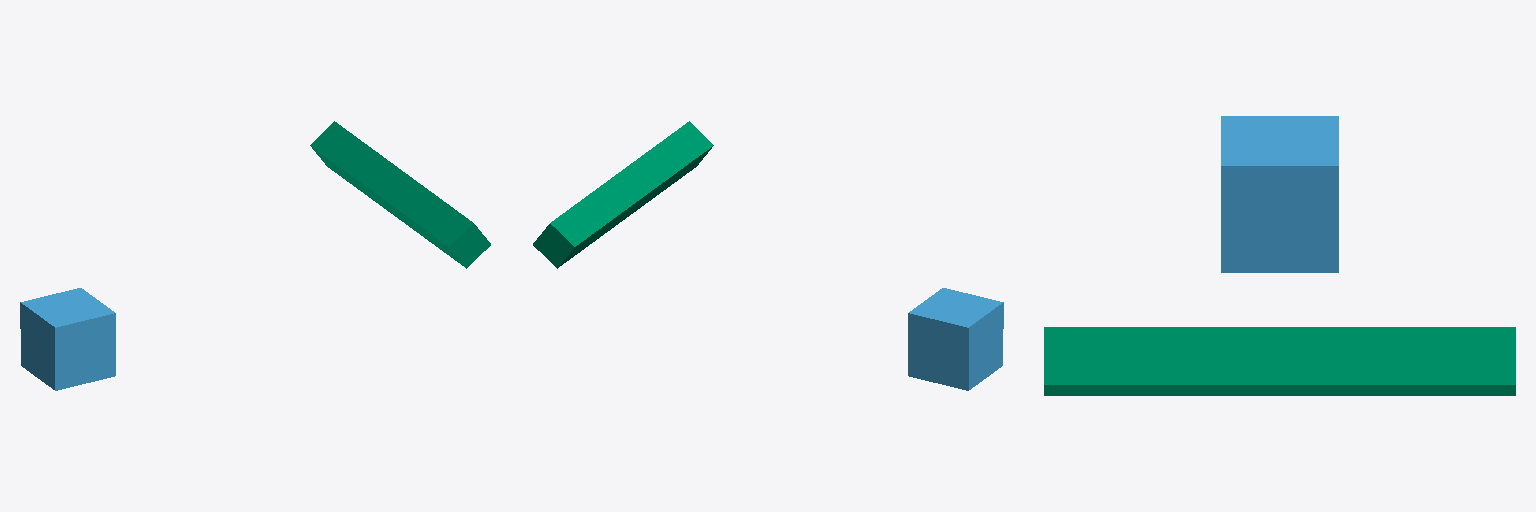
robot.urdf — iris:
<?xml version="1.0" encoding="utf-8"?>
<!-- =================================================================================== -->
<!-- |    This document was autogenerated by xacro from iris_base.xacro                | -->
<!-- |    EDITING THIS FILE BY HAND IS NOT RECOMMENDED                                 | -->
<!-- =================================================================================== -->
<robot name="iris">
  <!---->
  <link name="base_link">
    <inertial>
      <mass value="1.5"/>
      <!-- [kg] -->
      <origin xyz="0 0 0"/>
      <inertia ixx="0.029125" ixy="0.0" ixz="0.0" iyy="0.029125" iyz="0.0" izz="0.055225"/>
    </inertial>
    <visual>
      <origin rpy="0 0 0" xyz="0 0 0"/>
      <geometry>
        <mesh filename="package://leonardo_world/iris_urdf/iris.dae" scale="1 1 1"/>
        <!-- <box size="${body_width} ${body_width} ${body_height}"/> -->
        <!-- [m] [m] [m] -->
      </geometry>
    </visual>
    <collision>
      <origin rpy="0 0 0" xyz="0 0 0"/>
      <geometry>
        <mesh filename="package://leonardo_world/iris_urdf/iris.dae" scale="1 1 1"/>
      </geometry>
    </collision>
  </link>
  <!-- attach multirotor_base_plugin to the base_link -->
  <gazebo>
    <plugin filename="libgazebo_multirotor_base_plugin.so" name="rosbag">
      <robotNamespace></robotNamespace>
      <linkName>base_link</linkName>
      <rotorVelocitySlowdownSim>10</rotorVelocitySlowdownSim>
    </plugin>
  </gazebo>
  <gazebo reference="base_link">
    <material>Gazebo/DarkGrey</material>
    <collision name="base_link_inertia_collision">
      <surface>
        <contact>
          <ode>
            <min_depth>0.001</min_depth>
            <max_vel>0.0</max_vel>
          </ode>
        </contact>
        <friction>
          <ode/>
        </friction>
      </surface>
    </collision>
  </gazebo>
  <link name="/camera_raw_link">
    <collision>
      <origin rpy="0 0 0" xyz="0 0 0"/>
      <geometry>
        <box size="0.02 0.02 0.02"/>
      </geometry>
    </collision>
    <visual>
      <origin rpy="0 1.57079632679 0" xyz="0 0 0"/>
      <geometry>
        <box size="0.02 0.02 0.02"/>
      </geometry>
      <material name="red"/>
    </visual>
    <inertial>
      <mass value="1e-5"/>
      <origin rpy="0 0 0" xyz="0 0 0"/>
      <inertia ixx="1e-6" ixy="0" ixz="0" iyy="1e-6" iyz="0" izz="1e-6"/>
    </inertial>
  </link>
  <joint name="/camera_raw_joint" type="fixed">
    <origin rpy="0.0 1.57 0.0" xyz="0.0 0 -0.04"/>
    <parent link="base_link"/>
    <child link="/camera_raw_link"/>
  </joint>
  <gazebo reference="/camera_raw_link">
    <sensor name="_camera_raw" type="camera">
      <update_rate>30</update_rate>
      <camera name="head">
        <horizontal_fov>1.4</horizontal_fov>
        <image>
          <width>1280</width>
          <height>720</height>
          <format>B8G8R8</format>
        </image>
        <clip>
          <near>0.02</near>
          <far>300</far>
        </clip>
        <noise>
          <type>gaussian</type>
          <!-- Noise is sampled independently per pixel on each frame.
                 That pixel's noise value is added to each of its color
                 channels, which at that point lie in the range [0,1]. -->
          <mean>0.0</mean>
          <stddev>0.008</stddev>
        </noise>
      </camera>
      <plugin filename="libgazebo_ros_camera.so" name="_camera_raw_controller">
        <robotNamespace></robotNamespace>
        <alwaysOn>true</alwaysOn>
        <updateRate>30</updateRate>
        <cameraName>camera_raw</cameraName>
        <imageTopicName>image_raw</imageTopicName>
        <cameraInfoTopicName>camera_info</cameraInfoTopicName>
        <frameName>/camera_raw_linkk</frameName>
        <hackBaseline>0.0</hackBaseline>
        <distortionK1>0.0</distortionK1>
        <distortionK2>0.0</distortionK2>
        <distortionK3>0.0</distortionK3>
        <distortionT1>0.0</distortionT1>
        <distortionT2>0.0</distortionT2>
      </plugin>
    </sensor>
  </gazebo>
  <!-- frames in the center of the camera -->
  <joint name="rgbd_camera_joint" type="fixed">
    <origin rpy="0.0 0.95 0.0" xyz="0.11 0.0 -0.02"/>
    <parent link="base_link"/>
    <child link="rgbd_camera"/>
  </joint>
  <link name="rgbd_camera">
    <!--
      <inertial>
        <origin xyz="-0.00936000000 -0.00003000000 -0.00273000000" rpy="0 0 0"/>
        <mass value="0.21970000000"/>
        <inertia ixx="0.00000429247" ixy="0.00000000000" ixz="0.00000002565"
                 iyy="0.00000008027" iyz="0.00000000000"
                 izz="0.00000427339"/>
      </inertial>
			-->
    <visual>
      <origin rpy="0 0 0" xyz="0 0 0"/>
      <geometry>
        <box size="0.01 0.08 0.01"/>
      </geometry>
      <material name="DarkGrey"/>
    </visual>
  </link>
  <joint name="rgbd_camera_optical_joint" type="fixed">
    <origin rpy="0.0 0 0.0" xyz="0 0 0"/>
    <parent link="rgbd_camera"/>
    <child link="rgbd_camera_optical_frame"/>
  </joint>
  <link name="rgbd_camera_optical_frame">
    <dummy_inertial/>
  </link>
  <!-- Depth sensor frames -->
  <joint name="rgbd_camera_depth_joint" type="fixed">
    <origin rpy="0 0 0" xyz="0.0 0.049 0.0"/>
    <parent link="rgbd_camera"/>
    <child link="rgbd_camera_depth_frame"/>
  </joint>
  <link name="rgbd_camera_depth_frame">
    <dummy_inertial/>
  </link>
  <joint name="rgbd_camera_depth_optical_joint" type="fixed">
    <origin rpy="-1.57079632679 0.0 -1.57079632679" xyz="0 0 0"/>
    <parent link="rgbd_camera_depth_frame"/>
    <child link="rgbd_camera_depth_optical_frame"/>
  </joint>
  <link name="rgbd_camera_depth_optical_frame">
    <dummy_inertial/>
  </link>
  <!-- RGB sensor frames -->
  <joint name="rgbd_camera_rgb_joint" type="fixed">
    <origin rpy="0 0 0" xyz="0.0 0.022 0.0"/>
    <parent link="rgbd_camera"/>
    <child link="rgbd_camera_rgb_frame"/>
  </joint>
  <link name="rgbd_camera_rgb_frame">
    <dummy_inertial/>
  </link>
  <joint name="rgbd_camera_rgb_optical_joint" type="fixed">
    <origin rpy="-1.57079632679 0.0 -1.57079632679" xyz="0 0 0"/>
    <parent link="rgbd_camera_rgb_frame"/>
    <child link="rgbd_camera_rgb_optical_frame"/>
  </joint>
  <link name="rgbd_camera_rgb_optical_frame">
    <dummy_inertial/>
  </link>
  <gazebo reference="rgbd_camera">
    <!-- Depth (IR) -->
    <sensor name="rgbd_camera_frame_sensor" type="depth">
      <always_on>true</always_on>
      <update_rate>6.0</update_rate>
      <camera>
        <horizontal_fov>1.74532925199</horizontal_fov>
        <image>
          <format>R8G8B8</format>
          <width>1360</width>
          <height>768</height>
        </image>
        <clip>
          <near>0.2</near>
          <far>6.0</far>
        </clip>
      </camera>
      <plugin filename="libgazebo_ros_openni_kinect.so" name="rgbd_camera_frame_controller">
        <alwaysOn>true</alwaysOn>
        <updateRate>5.0</updateRate>
        <cameraName>rgbd_camera</cameraName>
        <imageTopicName>ir/image_raw</imageTopicName>
        <cameraInfoTopicName>ir/camera_info</cameraInfoTopicName>
        <depthImageTopicName>depth/image_raw</depthImageTopicName>
        <depthImageCameraInfoTopicName>depth/camera_info</depthImageCameraInfoTopicName>
        <pointCloudTopicName>depth/points</pointCloudTopicName>
        <frameName>rgbd_camera_optical_frame</frameName>
        <pointCloudCutoff>0.05</pointCloudCutoff>
        <pointCloudCutoffMax>5</pointCloudCutoffMax>
        <rangeMax>0.5</rangeMax>
        <!-- Distortion parameters not supported in gazebo 1.9.* plugins -->
        <!--distortionK1>0.00000001</distortionK1>
          <distortionK2>0.00000001</distortionK2>
          <distortionK3>0.00000001</distortionK3>
          <distortionT1>0.00000001</distortionT1>
          <distortionT2>0.00000001</distortionT2-->
      </plugin>
    </sensor>
    <!-- RGB -->
    <sensor name="rgbd_camera_frame_sensor" type="depth">
      <always_on>true</always_on>
      <update_rate>6.0</update_rate>
      <camera>
        <horizontal_fov>1.74532925199</horizontal_fov>
        <image>
          <format>R8G8B8</format>
          <width>1360</width>
          <height>768</height>
        </image>
        <clip>
          <near>0.2</near>
          <far>6.0</far>
        </clip>
      </camera>
      <plugin filename="libgazebo_ros_openni_kinect.so" name="rgbd_camera_frame_controller">
        <alwaysOn>true</alwaysOn>
        <updateRate>6.0</updateRate>
        <cameraName>rgbd_camera</cameraName>
        <imageTopicName>rgb/image_raw</imageTopicName>
        <cameraInfoTopicName>rgb/camera_info</cameraInfoTopicName>
        <pointCloudTopicName>rgb/points</pointCloudTopicName>
        <depthImageTopicName>depth/image_raw</depthImageTopicName>
        <depthImageCameraInfoTopicName>depth/camera_info</depthImageCameraInfoTopicName>
        <frameName>rgbd_camera_optical_frame</frameName>
        <pointCloudCutoff>0.05</pointCloudCutoff>
        <pointCloudCutoffMax>5</pointCloudCutoffMax>
        <rangeMax>2.5</rangeMax>
      </plugin>
    </sensor>
  </gazebo>
  <!--

  <xacro:vertical_rotor
    robot_namespace="${namespace}"
    suffix="front_right"
    direction="ccw"
    motor_constant="${motor_constant}"
    moment_constant="${moment_constant}"
    parent="base_link"
    mass_rotor="${mass_rotor}"
    radius_rotor="${radius_rotor}"
    time_constant_up="${time_constant_up}"
    time_constant_down="${time_constant_down}"
    max_rot_velocity="${max_rot_velocity}"
    motor_number="0"
    rotor_drag_coefficient="${rotor_drag_coefficient}"
    rolling_moment_coefficient="${rolling_moment_coefficient}"
    mesh="iris_prop"
    mesh_scale="${mesh_scale_prop}"
    color="Blue">
    <origin xyz="${arm_length_front_x} -${arm_length_front_y} ${rotor_offset_top}" rpy="0 0 0" />
    <xacro:insert_block name="rotor_inertia" />
  </xacro:vertical_rotor>

  <xacro:vertical_rotor
    robot_namespace="${namespace}"
    suffix="back_left"
    direction="ccw"
    motor_constant="${motor_constant}"
    moment_constant="${moment_constant}"
    parent="base_link"
    mass_rotor="${mass_rotor}"
    radius_rotor="${radius_rotor}"
    time_constant_up="${time_constant_up}"
    time_constant_down="${time_constant_down}"
    max_rot_velocity="${max_rot_velocity}"
    motor_number="1"
    rotor_drag_coefficient="${rotor_drag_coefficient}"
    rolling_moment_coefficient="${rolling_moment_coefficient}"
    mesh="iris_prop"
    mesh_scale="${mesh_scale_prop}"
    color="DarkGrey">
    <origin xyz="-${arm_length_back_x} ${arm_length_back_y} ${rotor_offset_top}" rpy="0 0 0" />
    <xacro:insert_block name="rotor_inertia" />
  </xacro:vertical_rotor>

  <xacro:vertical_rotor robot_namespace="${namespace}"
    suffix="front_left"
    direction="cw"
    motor_constant="${motor_constant}"
    moment_constant="${moment_constant}"
    parent="base_link"
    mass_rotor="${mass_rotor}"
    radius_rotor="${radius_rotor}"
    time_constant_up="${time_constant_up}"
    time_constant_down="${time_constant_down}"
    max_rot_velocity="${max_rot_velocity}"
    motor_number="2"
    rotor_drag_coefficient="${rotor_drag_coefficient}"
    rolling_moment_coefficient="${rolling_moment_coefficient}"
    mesh="iris_prop"
    mesh_scale="${mesh_scale_prop}"
    color="Blue">
    <origin xyz="${arm_length_front_x} ${arm_length_front_y} ${rotor_offset_top}" rpy="0 0 0" />
    <xacro:insert_block name="rotor_inertia" />
  </xacro:vertical_rotor>

  <xacro:vertical_rotor robot_namespace="${namespace}"
    suffix="back_right"
    direction="cw"
    motor_constant="${motor_constant}"
    moment_constant="${moment_constant}"
    parent="base_link"
    mass_rotor="${mass_rotor}"
    radius_rotor="${radius_rotor}"
    time_constant_up="${time_constant_up}"
    time_constant_down="${time_constant_down}"
    max_rot_velocity="${max_rot_velocity}"
    motor_number="3"
    rotor_drag_coefficient="${rotor_drag_coefficient}"
    rolling_moment_coefficient="${rolling_moment_coefficient}"
    mesh="iris_prop"
    mesh_scale="${mesh_scale_prop}"
    color="DarkGrey">
    <origin xyz="-${arm_length_back_x} -${arm_length_back_y} ${rotor_offset_top}" rpy="0 0 0" />
    <xacro:insert_block name="rotor_inertia" />
  </xacro:vertical_rotor>
	-->
</robot>

--- Facts derived from the render (not from the file) ---
Views: 3 orthographic renders of the robot side by side, from view 1: azimuth 30°, elevation 25°; view 2: azimuth 150°, elevation 25°; view 3: azimuth 270°, elevation 25°.
Model iris with 8 links and 7 joints (7 fixed), rooted at base_link, posed every joint at zero.
Visible links, largest first — view 1: /camera_raw_link, rgbd_camera; view 2: /camera_raw_link, rgbd_camera; view 3: rgbd_camera, /camera_raw_link.
Boxes of the visible links, bbox=[...] form: /camera_raw_link: bbox=[20, 288, 115, 390]; rgbd_camera: bbox=[310, 121, 490, 268]; /camera_raw_link: bbox=[908, 288, 1003, 390]; rgbd_camera: bbox=[533, 121, 713, 268]; rgbd_camera: bbox=[1044, 327, 1515, 395]; /camera_raw_link: bbox=[1221, 116, 1338, 272].
Bounding box of the posed robot: 0.127 × 0.08 × 0.037 m (x, y, z).
Meshes: 1 distinct files referenced, 0 mesh visuals loaded (none loaded); not drawn: 1 (reference not matched to a file when rendering).
